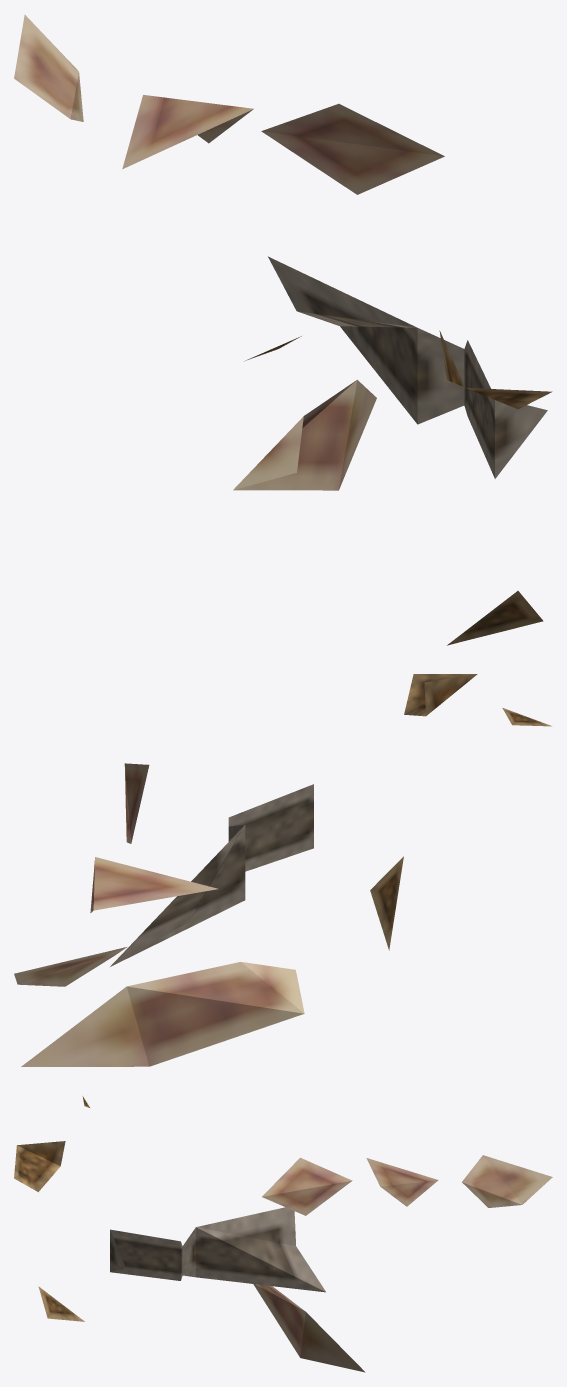
The picture shows the model from 3 angles, top to bottom: view 1: azimuth 30°, elevation 25°; view 2: azimuth 150°, elevation 25°; view 3: azimuth 270°, elevation 25°; orthographic projection. The views are drawn at different scales.
Parts seen in each view (by area): view 1: B_0117_1b_0; view 2: B_0117_1b_0; view 3: B_0117_1b_0.
Part boxes in pixels (x1=…): B_0117_1b_0: x1=14, y1=14, x2=552, y2=645; B_0117_1b_0: x1=14, y1=674, x2=551, y2=1066; B_0117_1b_0: x1=14, y1=1096, x2=552, y2=1372.
Size of the model in its own units: 1.41 by 1.27 by 3.1.
Materials: 1 (1 with a texture image).
